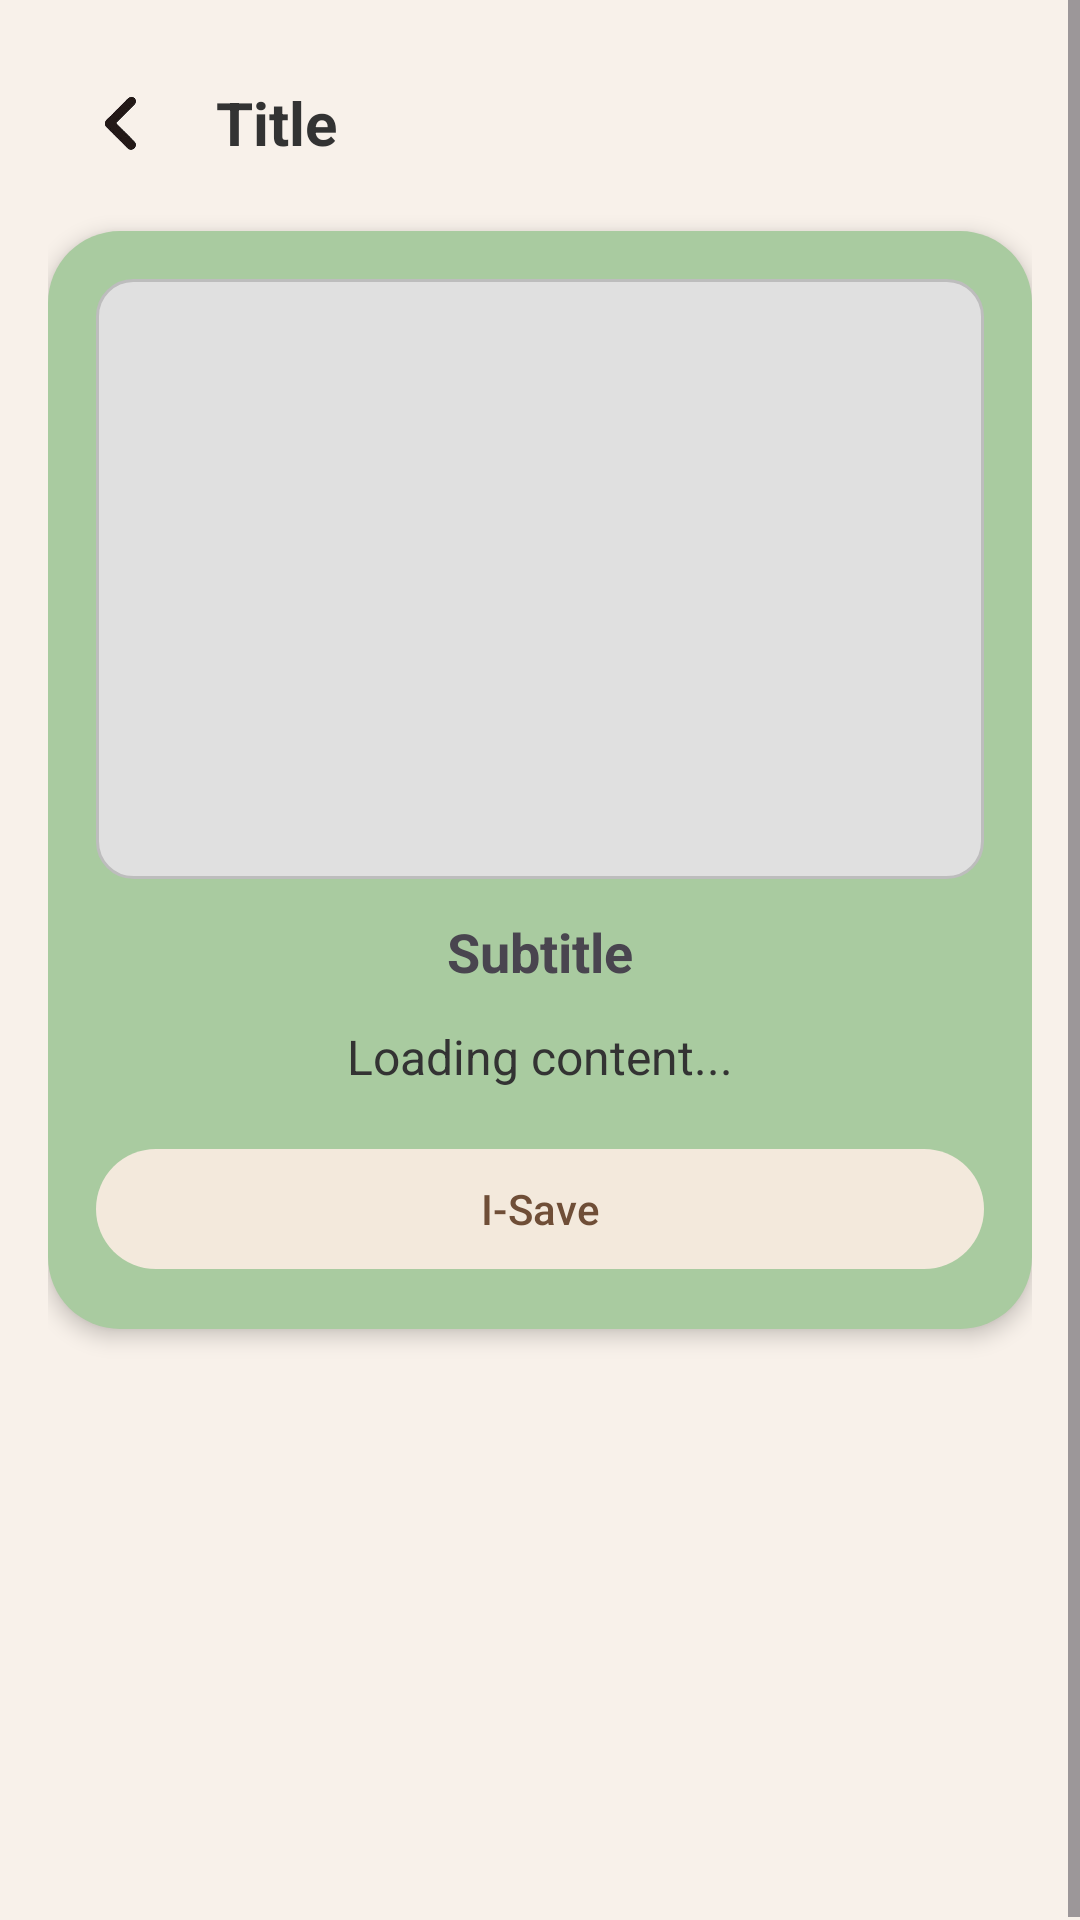

Named icons in this screenshot (1080px x 1920px) and their bounding boxes, box(x1, y1, x2, y2):
back: box(105, 97, 136, 150)
